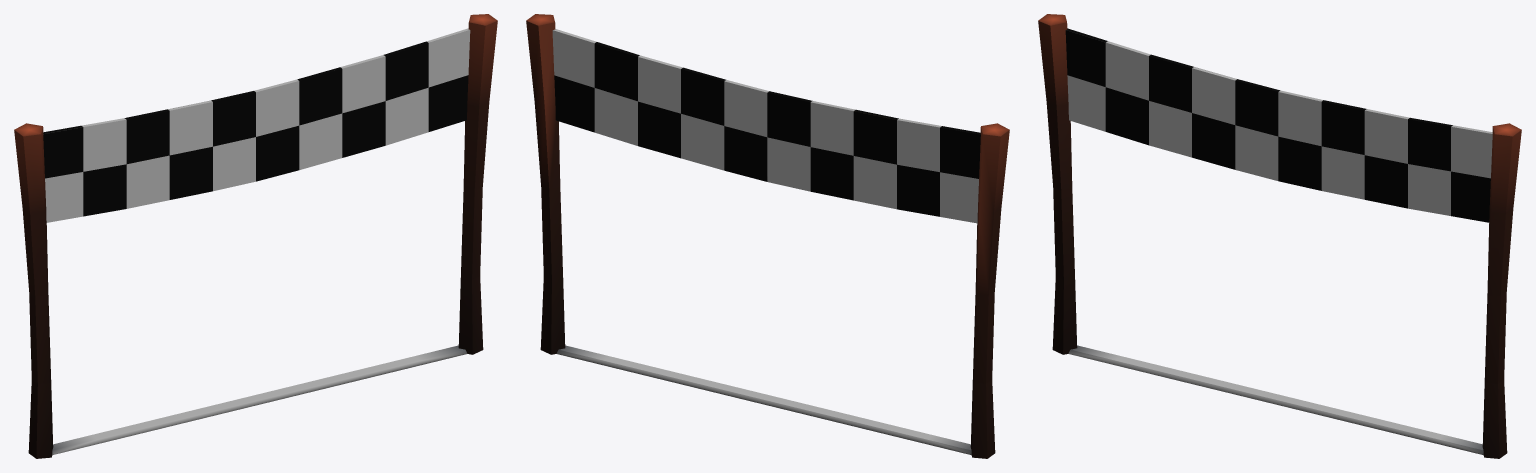
The model's file is FinishLine.fbx.
3 views of the same model, side by side, from view 1: azimuth 30°, elevation 25°; view 2: azimuth 150°, elevation 25°; view 3: azimuth 330°, elevation 25° (orthographic).
Visible parts, largest first — view 1: GPL_goal_02, GPL_goal_02.001, GPL_goal_02.002; view 2: GPL_goal_02, GPL_goal_02.001, GPL_goal_02.002; view 3: GPL_goal_02, GPL_goal_02.001, GPL_goal_02.002.
Part boxes in pixels (box(x1,y1,x2,y2)): GPL_goal_02: box(43, 28, 470, 222); GPL_goal_02.001: box(14, 14, 497, 458); GPL_goal_02.002: box(52, 345, 467, 454); GPL_goal_02: box(552, 29, 980, 223); GPL_goal_02.001: box(526, 14, 1009, 458); GPL_goal_02.002: box(556, 345, 971, 454); GPL_goal_02: box(1065, 28, 1492, 222); GPL_goal_02.001: box(1038, 14, 1521, 458); GPL_goal_02.002: box(1068, 345, 1483, 454).
Size of the model in its own units: 1112 by 733 by 60.35.
